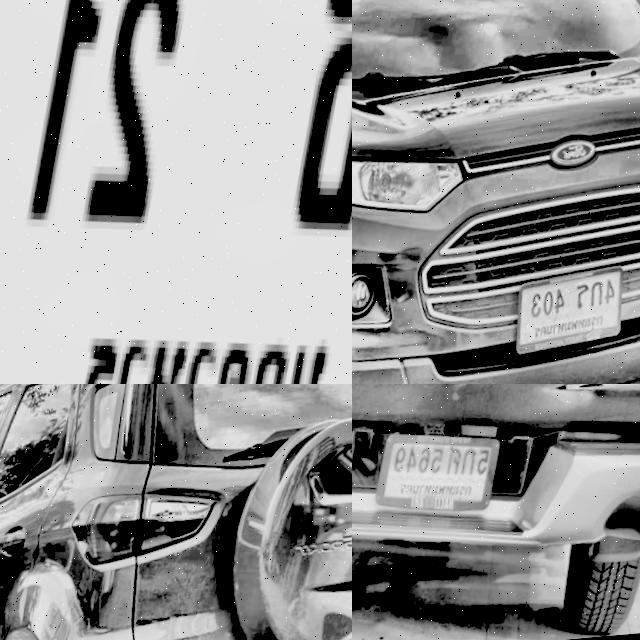license-plate: (0, 0, 352, 384), (509, 256, 639, 383), (377, 429, 506, 525)
